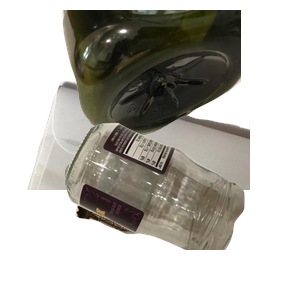glass: (62, 120, 300, 300)
paper: (25, 79, 265, 259)
plastic: (60, 10, 300, 139)
trash: (73, 171, 242, 300)
